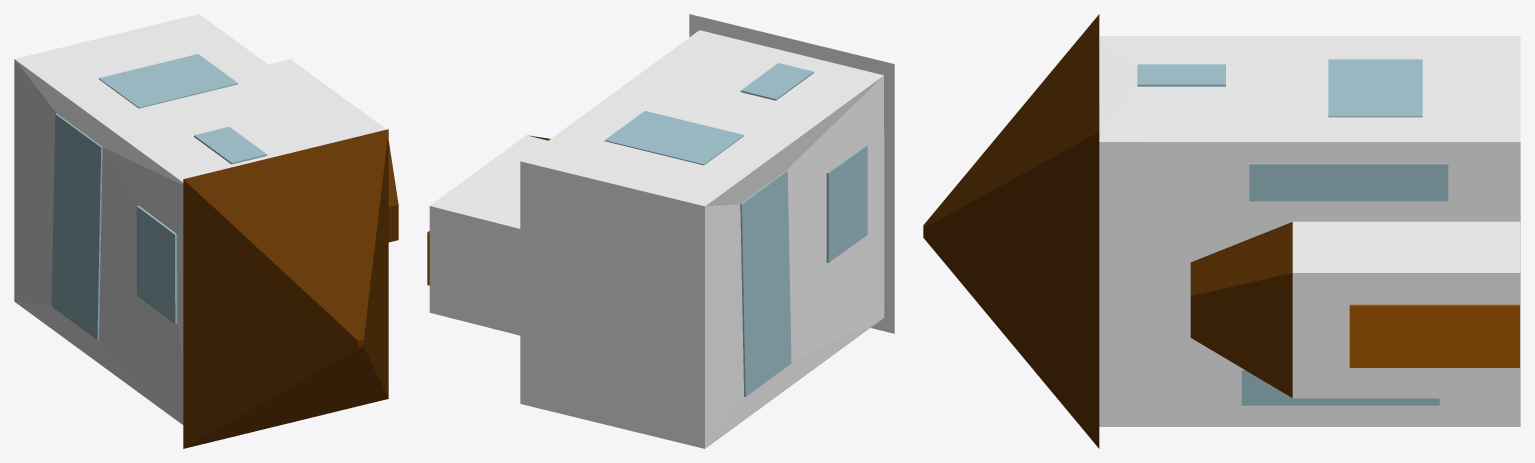
The model's file is Дом4Origin.fbx.
The picture shows the model from 3 angles, left to right: view 1: azimuth 30°, elevation 25°; view 2: azimuth 150°, elevation 25°; view 3: azimuth 270°, elevation 25°; orthographic projection. The views are drawn at different scales.
Visible parts, largest first — view 1: Дом4; view 2: Дом4; view 3: Дом4.
Boxes of the visible parts, bbox=[...] form: Дом4: bbox=[14, 14, 398, 448]; Дом4: bbox=[427, 14, 894, 448]; Дом4: bbox=[923, 14, 1520, 448].
Bounding box in the file's own units: 5.51 × 4.92 × 8.41.
